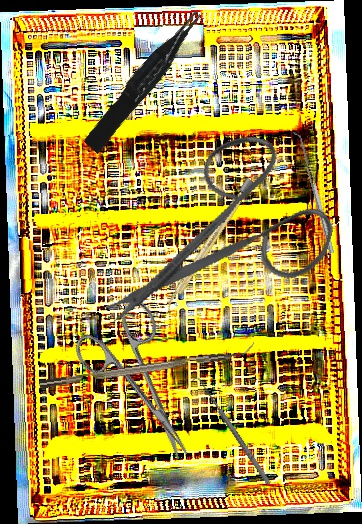Chopper: (37, 339, 256, 389)
Hook Surgical: (190, 374, 273, 489)
Iris Scissors: (102, 109, 353, 379), (67, 298, 219, 479)
Scalpel Handle: (163, 177, 255, 312)
Spatula Surgical: (291, 129, 335, 256)
Tissue Forceps: (77, 8, 214, 154)
